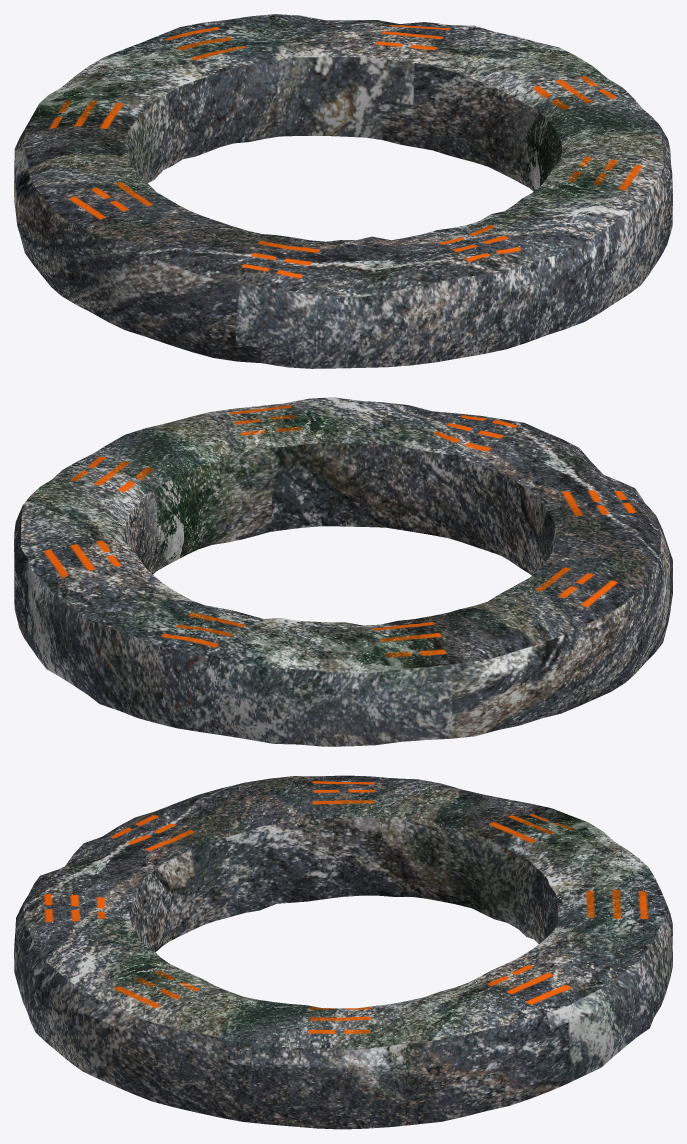
File: rolling_bagua_low.fbx
3 views of the same model, one above another, from view 1: azimuth 30°, elevation 25°; view 2: azimuth 150°, elevation 25°; view 3: azimuth 270°, elevation 25° (orthographic).
Parts seen in each view (by area): view 1: polySurface6; view 2: polySurface6; view 3: polySurface6.
Part boxes in pixels (<box>): polySurface6: <box>14,14,672,368</box>; polySurface6: <box>14,397,672,746</box>; polySurface6: <box>14,775,672,1129</box>.
Bounding box in the file's own units: 1.46 × 0.2315 × 1.46.
